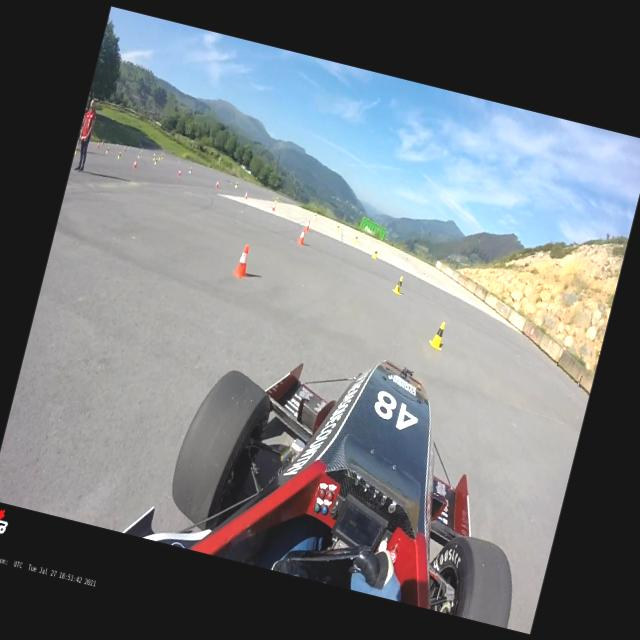orange_cone: (231, 242, 254, 279), (297, 228, 306, 244), (303, 219, 311, 231), (270, 202, 277, 212), (132, 158, 138, 168), (214, 180, 220, 188), (243, 191, 248, 199), (177, 168, 181, 176), (96, 142, 100, 148)
yellow_cone: (428, 320, 448, 350), (392, 275, 404, 295), (372, 247, 378, 259), (352, 233, 358, 243), (188, 166, 192, 174), (106, 146, 110, 154), (137, 152, 141, 159), (274, 196, 278, 203), (153, 158, 157, 165), (312, 212, 316, 219), (336, 223, 340, 230), (152, 154, 156, 160), (117, 152, 121, 158), (234, 182, 238, 188), (158, 154, 161, 160), (160, 153, 163, 159)
